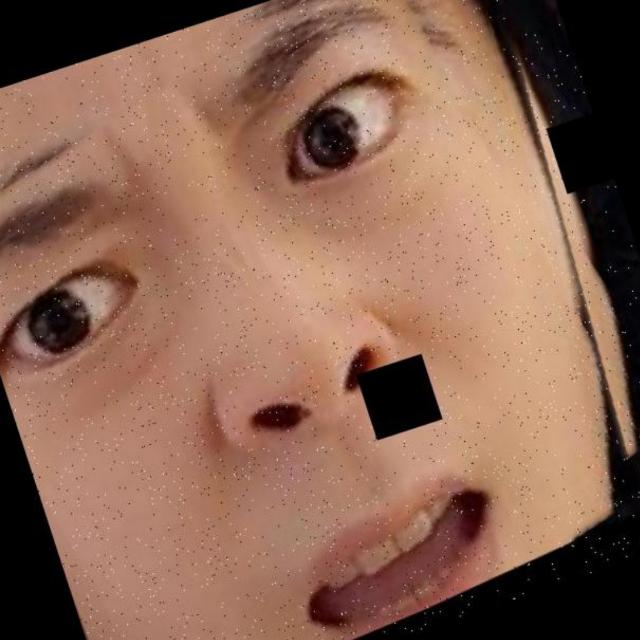Angry: (9, 44, 640, 639)
